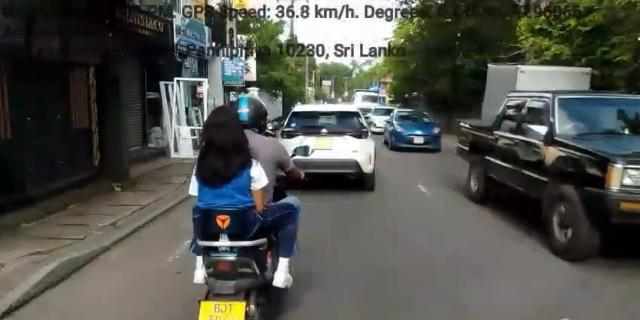no helmet: (211, 101, 248, 147)
